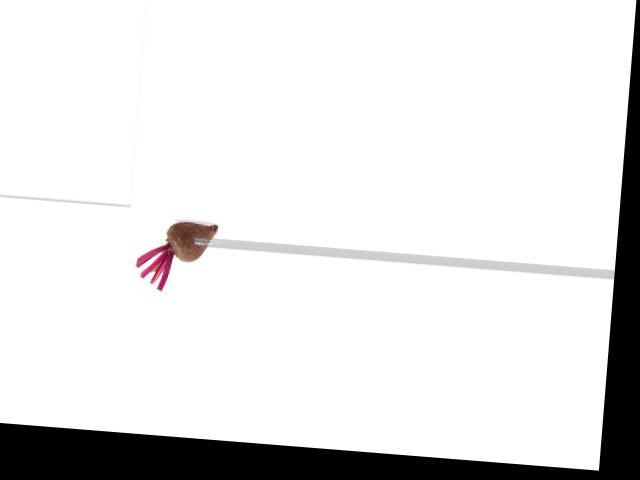beet: (134, 218, 218, 294)
